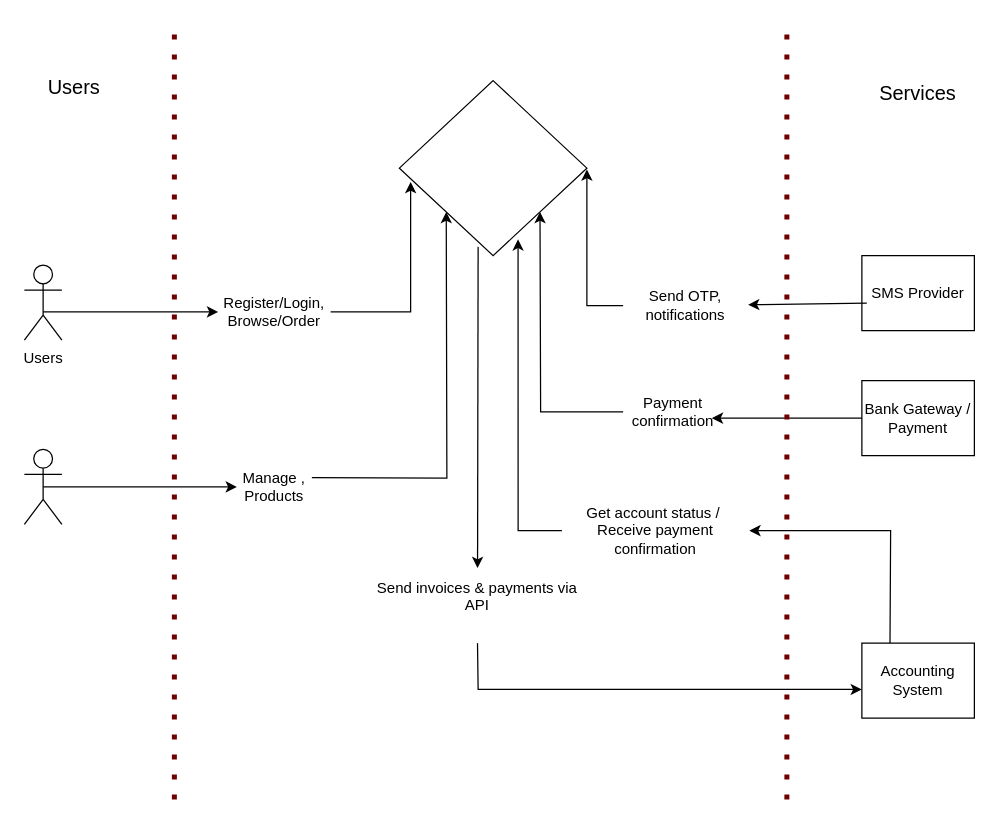
This 996x824 diagram has some shape labels left out. Each missing label, with the centre of its shape:
"Admin" belongs at pixel 42 486.
"Online Men Clothing Store" belongs at pixel 492 167.
